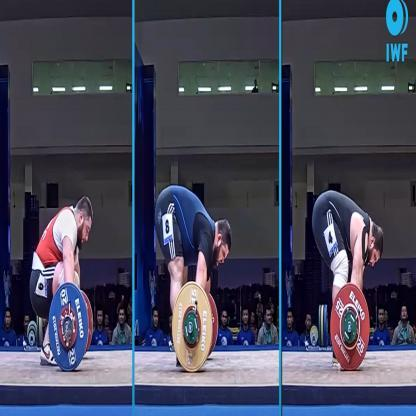Barbell: (187, 319, 197, 339), (346, 318, 355, 338), (65, 322, 71, 337)
